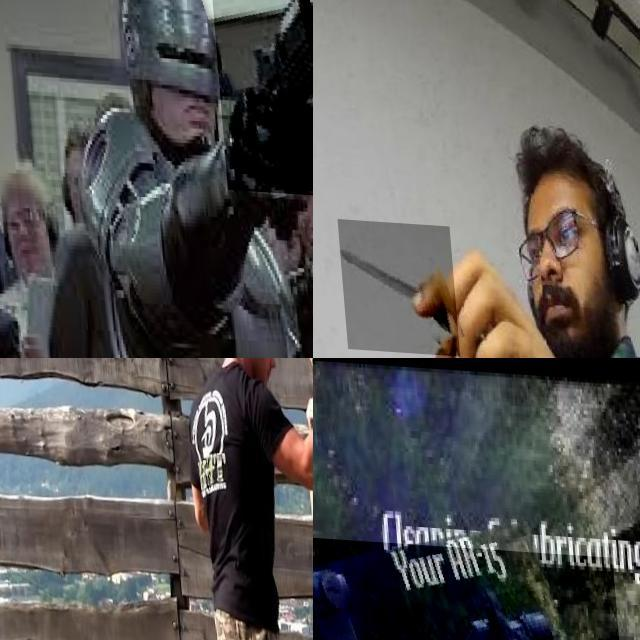-: (332, 216, 452, 352)
gun-knife-thesis - v11 Yolov5 augmented: (313, 520, 639, 640), (208, 0, 313, 193)
